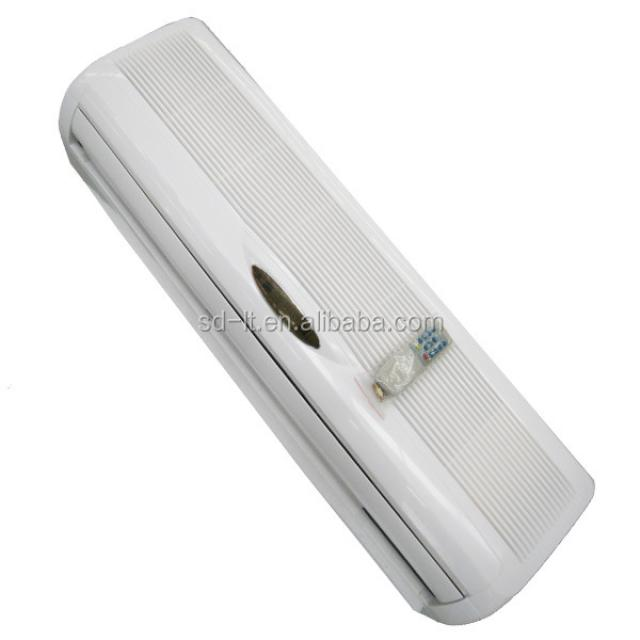electronics: (60, 18, 592, 622), (423, 220, 427, 225), (427, 228, 430, 232)
